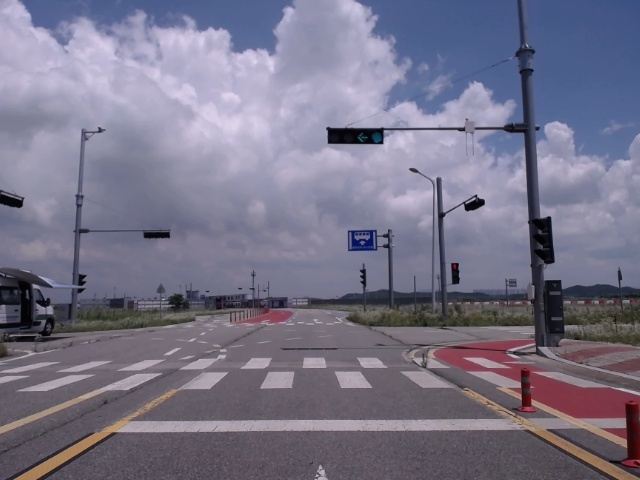all_green_4: (328, 128, 385, 142)
